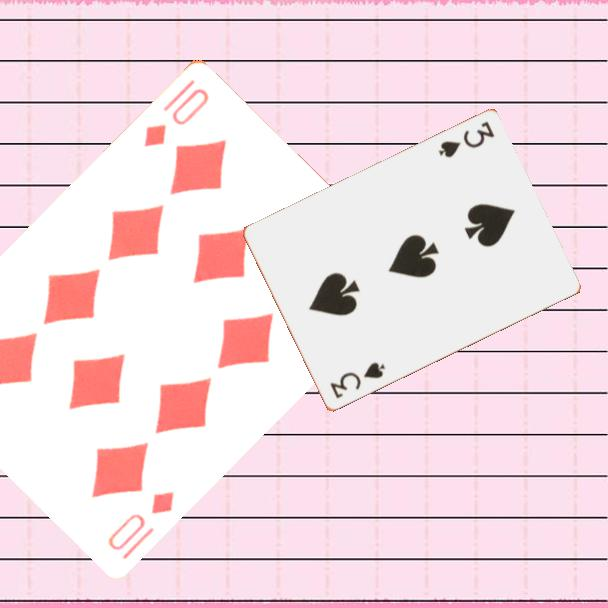d10: (104, 486, 177, 562), (140, 84, 212, 149)
s03: (326, 359, 388, 402), (435, 118, 497, 161)
